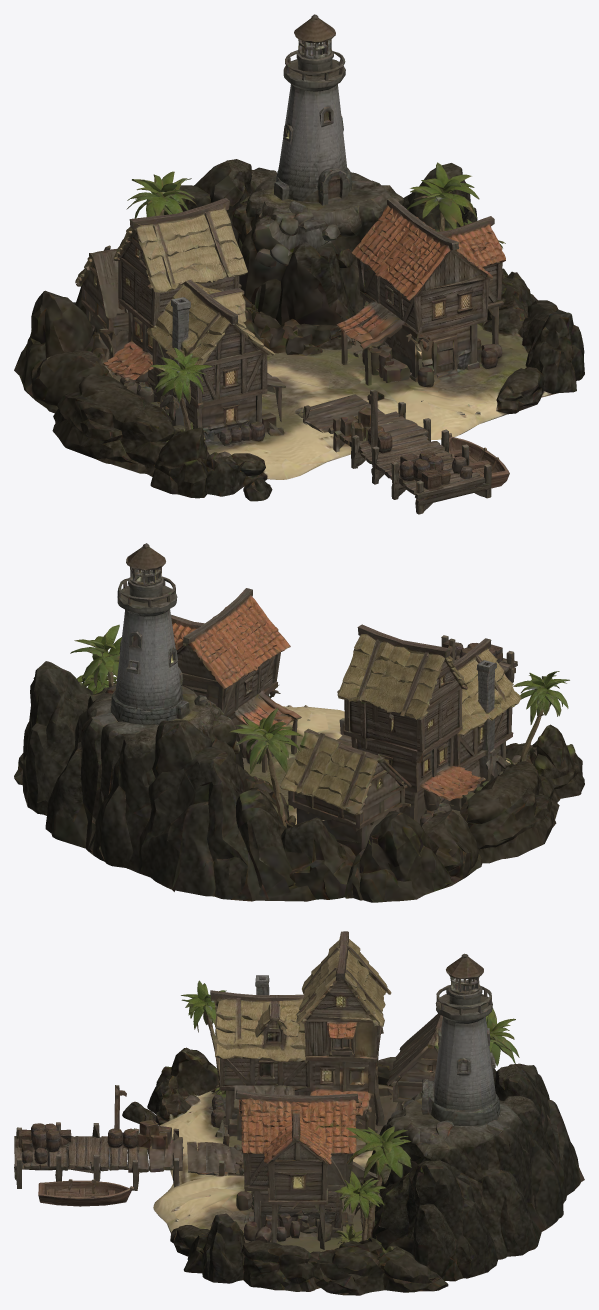
Rendered from port.glb.
The picture shows the model from 3 angles, top to bottom: view 1: azimuth 30°, elevation 25°; view 2: azimuth 150°, elevation 25°; view 3: azimuth 270°, elevation 25°; orthographic projection. The views are drawn at different scales.
Visible parts, largest first — view 1: Mesh_0; view 2: Mesh_0; view 3: Mesh_0.
Part boxes in pixels (x1,y1,x2,y2): Mesh_0: [14, 14, 584, 514]; Mesh_0: [14, 543, 584, 902]; Mesh_0: [14, 931, 584, 1295].
Bounding box in the file's own units: 1.76 × 0.9888 × 1.9.
1 material, 1 textured.
